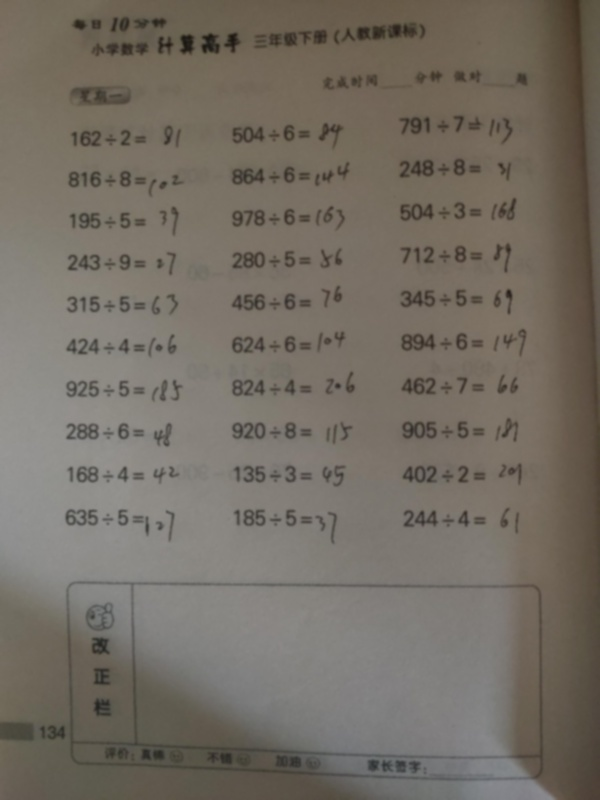equation: (387, 323, 531, 365), (404, 371, 536, 416), (219, 459, 369, 497), (228, 415, 357, 459), (56, 371, 205, 409), (61, 415, 201, 455), (396, 107, 529, 149), (56, 457, 208, 492), (59, 245, 188, 285), (221, 280, 353, 319), (393, 237, 520, 277), (59, 161, 200, 197), (391, 455, 540, 489), (391, 417, 531, 453), (229, 159, 361, 197), (223, 200, 359, 236), (389, 197, 529, 231), (388, 153, 536, 185), (67, 324, 196, 360), (395, 283, 519, 320), (63, 199, 188, 235), (61, 500, 176, 538), (230, 501, 339, 540), (399, 500, 522, 534), (228, 116, 347, 151), (225, 245, 349, 276), (60, 287, 188, 317), (228, 370, 358, 399), (67, 121, 184, 151), (227, 330, 349, 357)
